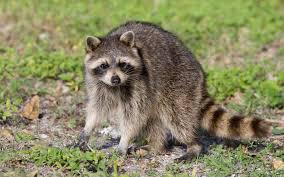raccoon: (85, 21, 272, 163)
